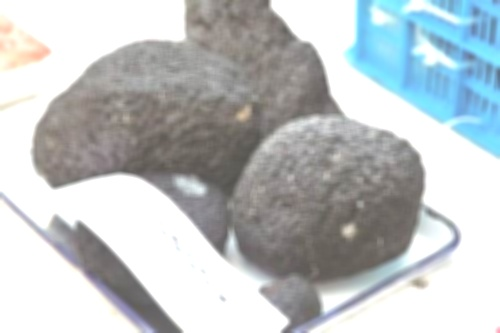halobolite: (231, 113, 430, 273), (39, 37, 254, 185), (179, 1, 349, 158), (249, 271, 328, 330)
